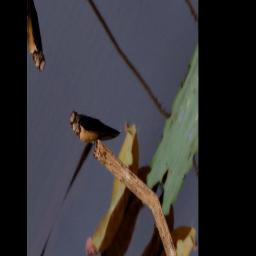Swallow: (67, 73, 122, 182)
